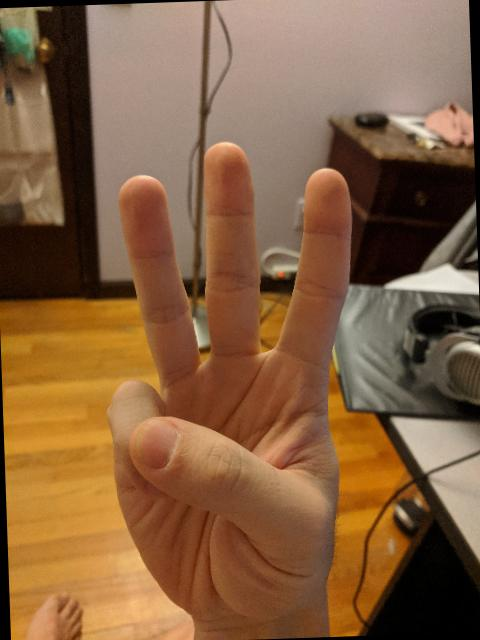W: (93, 135, 373, 634)
